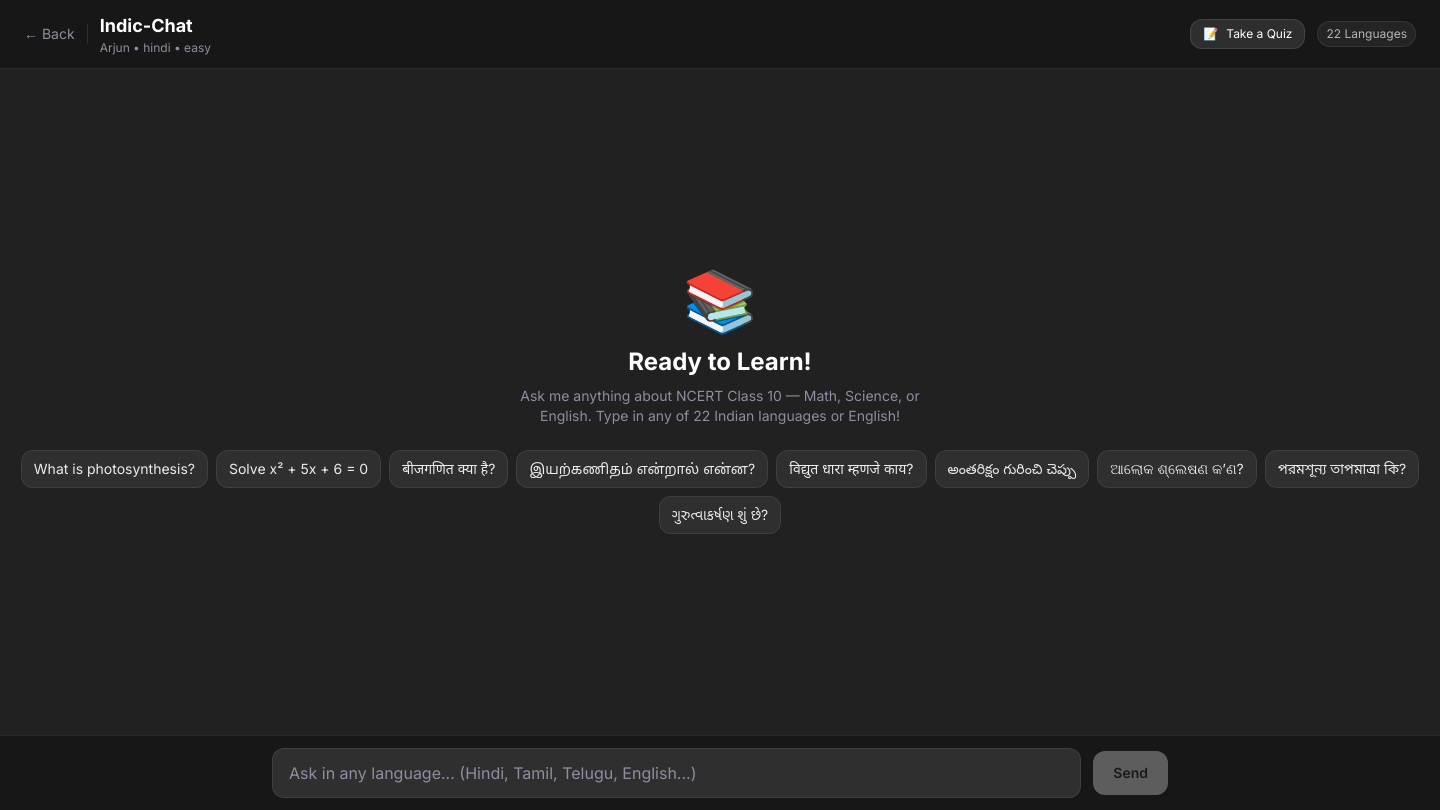
Test case: ChatPage › shows error message when stream fails
This screenshot has width=1440, height=810.
Step 1. Type "Test Error" into the field with placeholder "Ask in any language... (Hindi, Tamil, Telugu, English...)" → (677, 773), box [272,748,1081,798]
Then press Enter
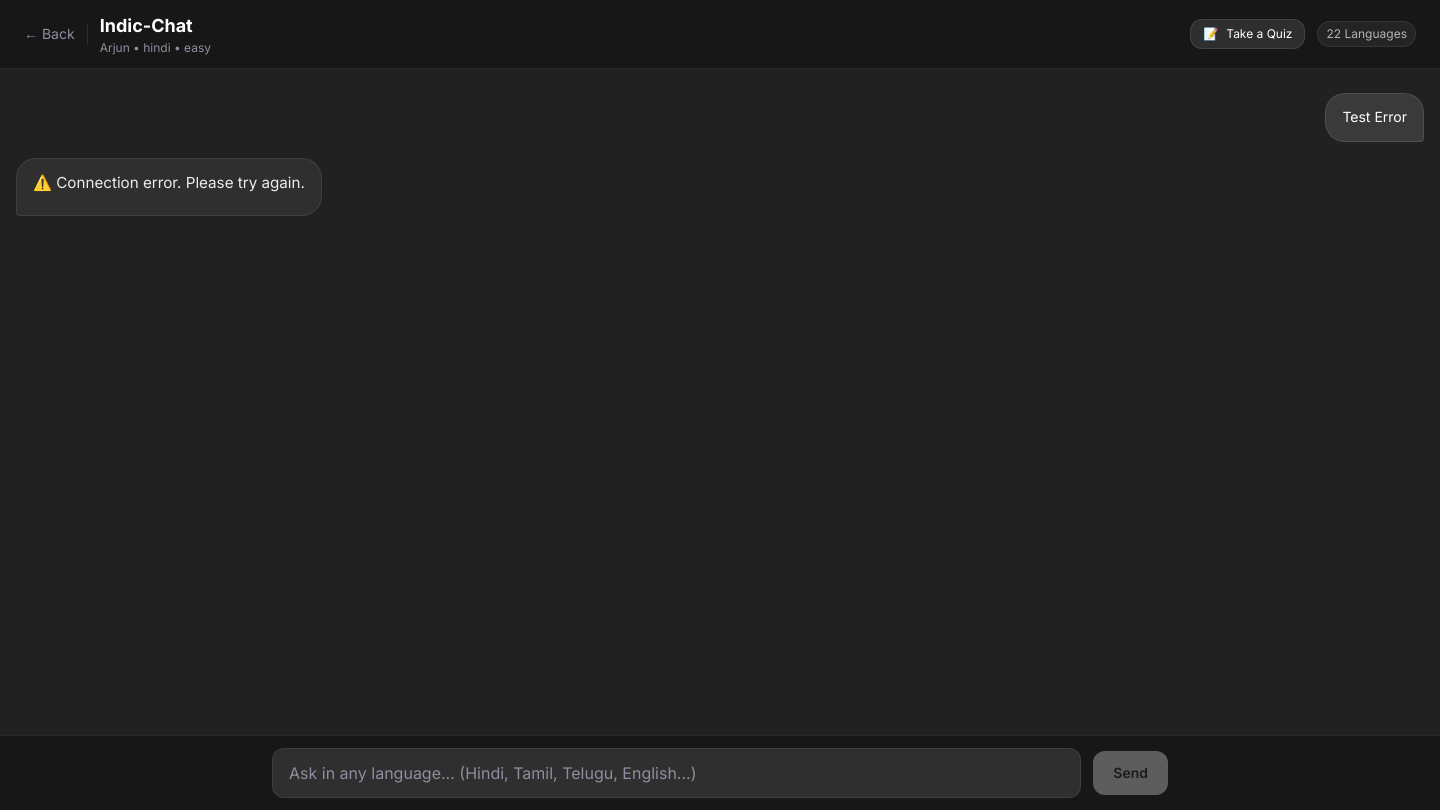
expect the message "⚠️ Connection error. Please try again." is shown: met, box [16,158,322,216]
expect the message shows "Connection error": met, box [33,173,305,192]
